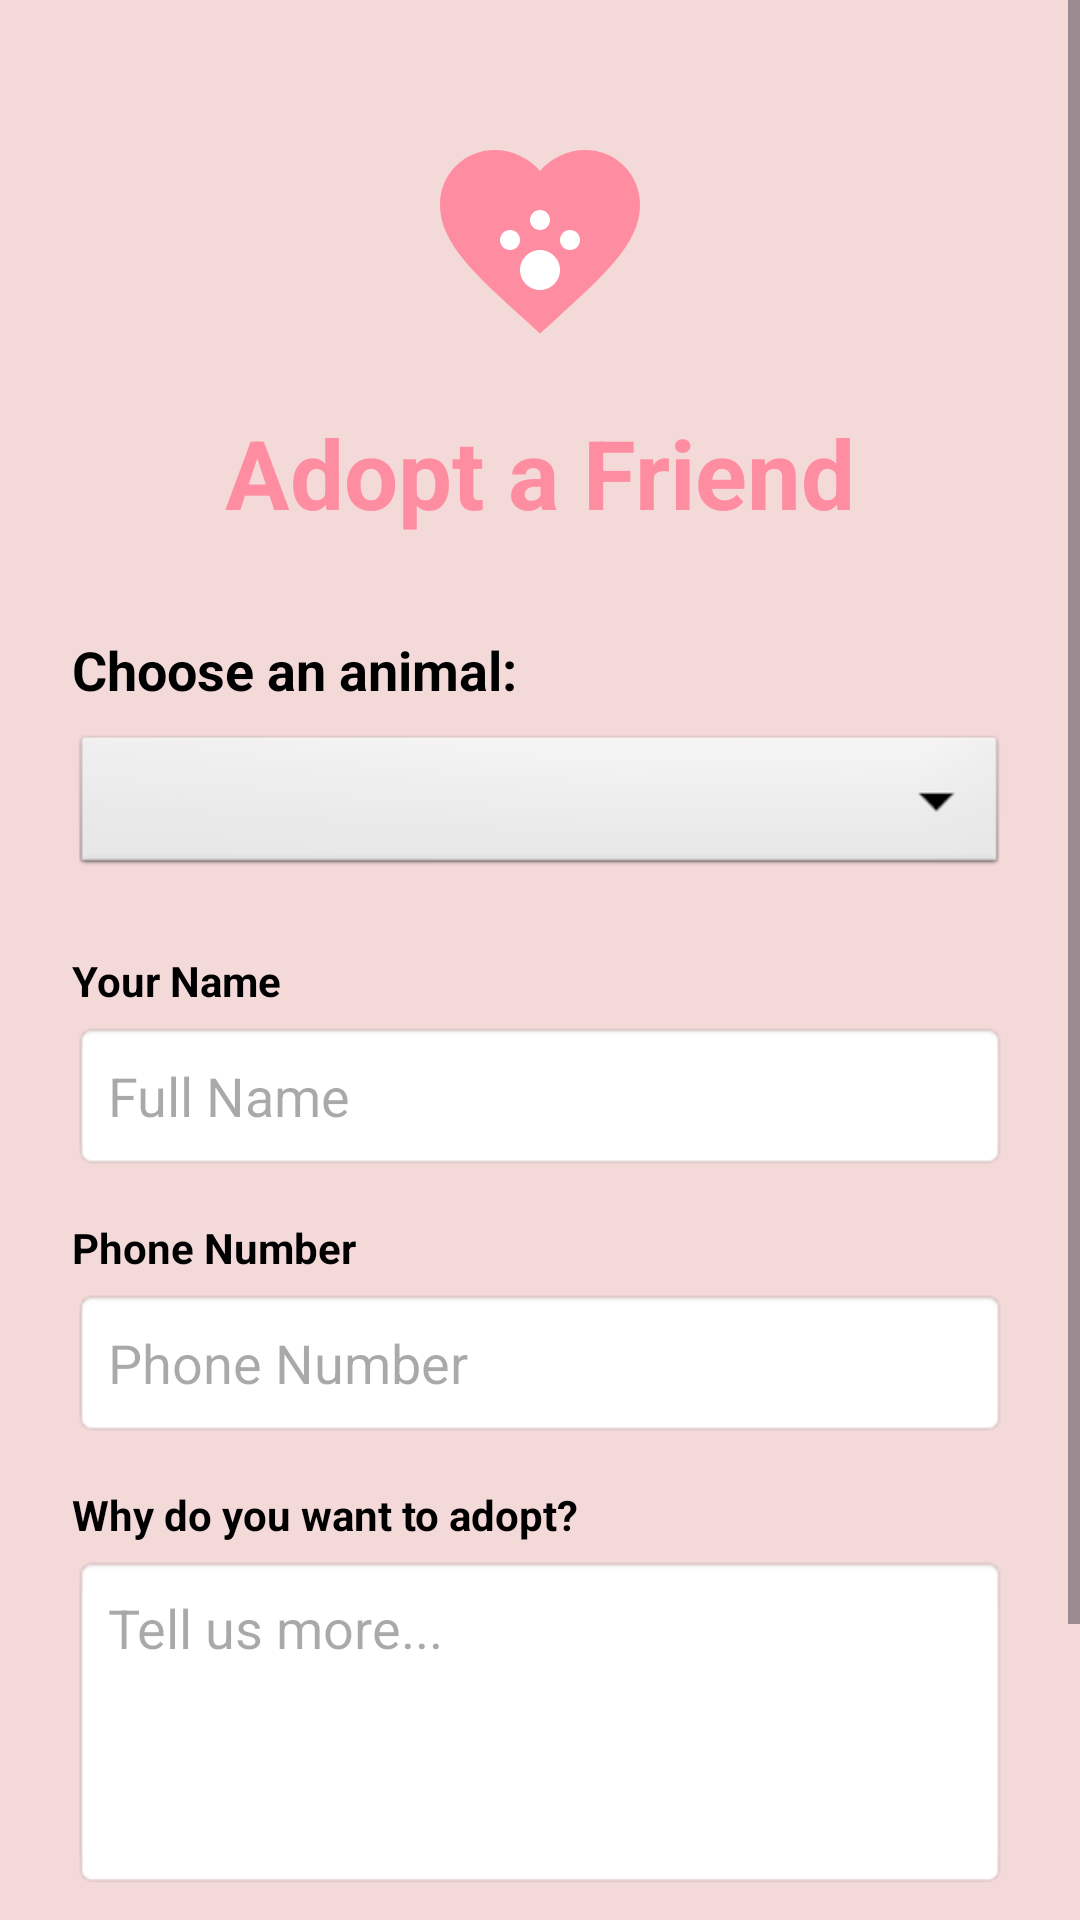

Icons on this 1080 x 1920 Android screen, each with the point to tap as (x=x, y=y):
heart paw: (x=540, y=241)
